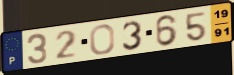2: (55, 29, 79, 61)
3: (26, 32, 49, 65), (121, 19, 144, 51)
5: (184, 10, 209, 42)
6: (154, 13, 179, 48)
O: (88, 23, 116, 56)
